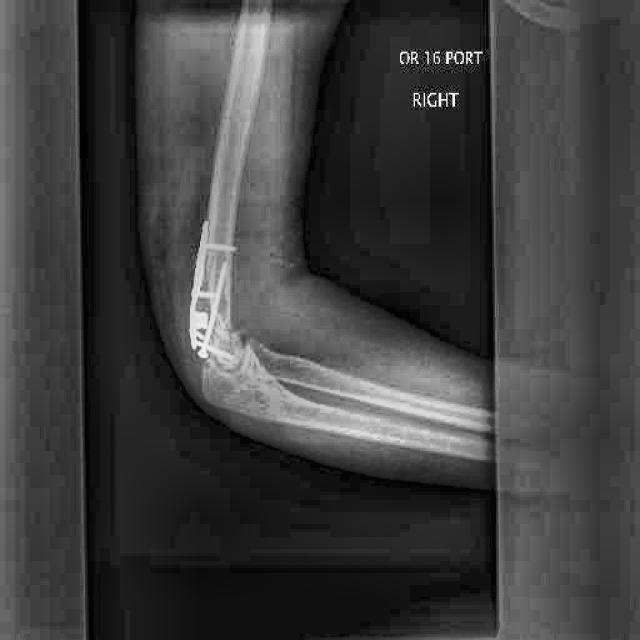elbow positive: (196, 236, 227, 299)
